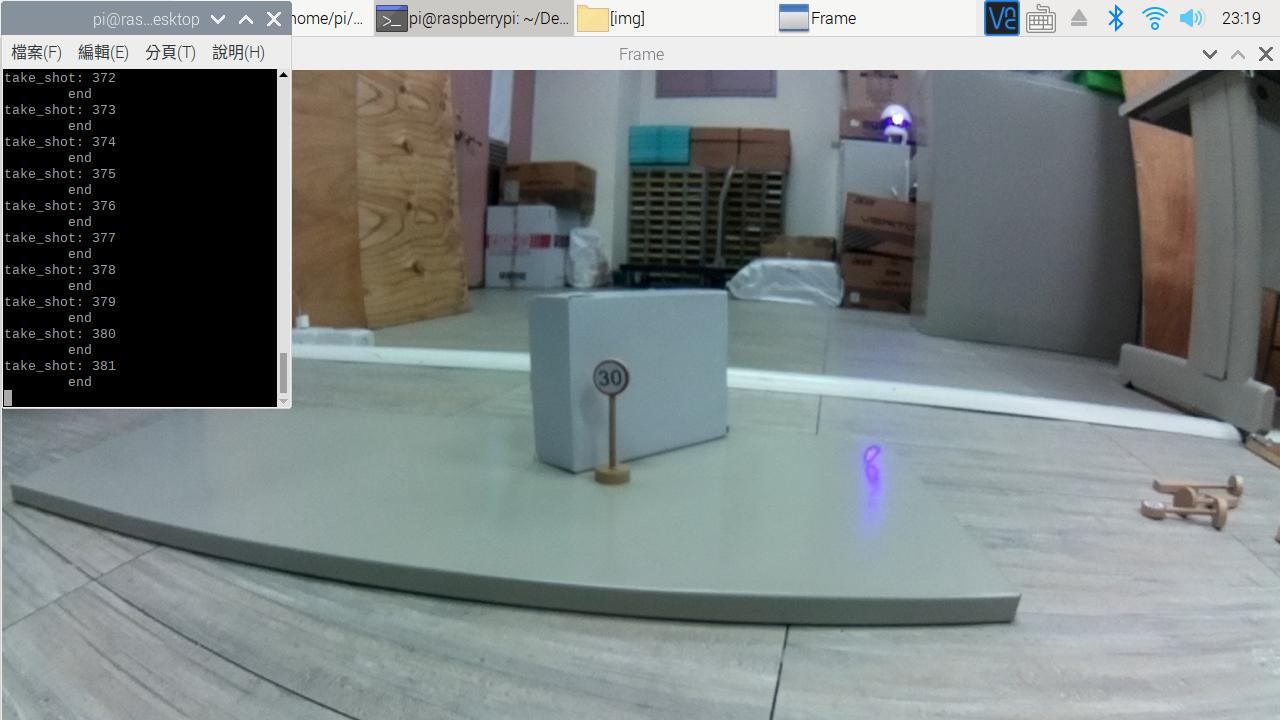Speed30: (579, 347, 651, 416)
